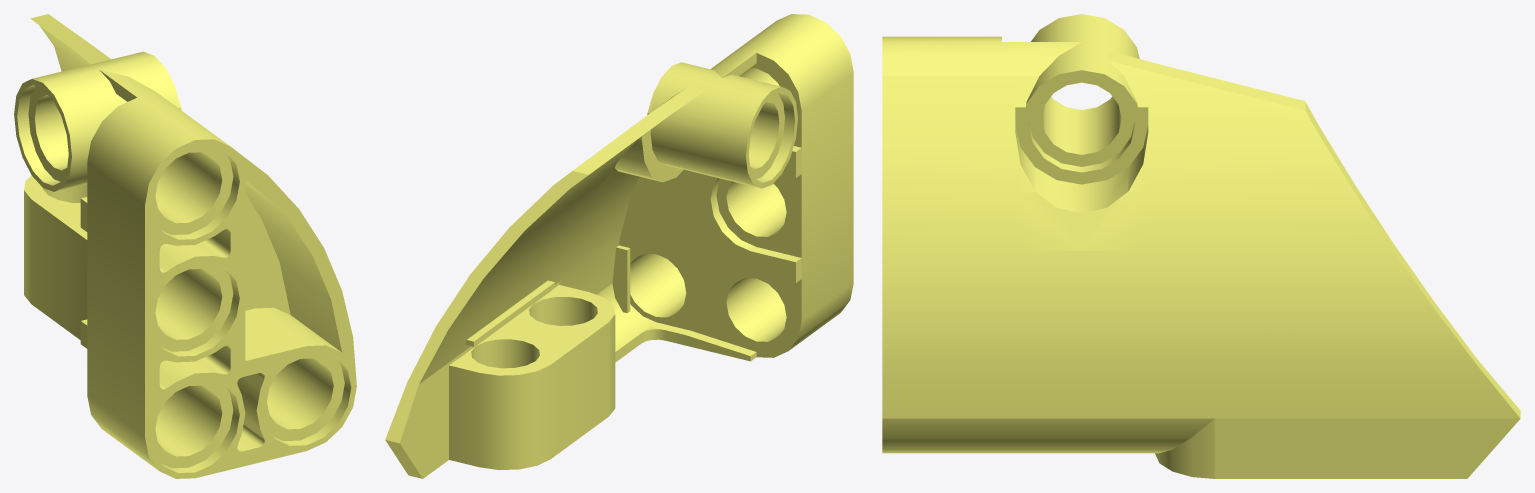
3 views of the same model, side by side, from view 1: azimuth 30°, elevation 25°; view 2: azimuth 150°, elevation 25°; view 3: azimuth 270°, elevation 25° (orthographic). The views are drawn at different scales.
Parts seen in each view (by area): view 1: 87080.dat; view 2: 87080.dat; view 3: 87080.dat.
Boxes of the visible parts, x1,y1,x2,y2 form: 87080.dat: [14, 14, 356, 478]; 87080.dat: [385, 14, 853, 478]; 87080.dat: [882, 14, 1520, 478].
Size of the model in its own units: 0.0156 by 0.0236 by 0.0384.
